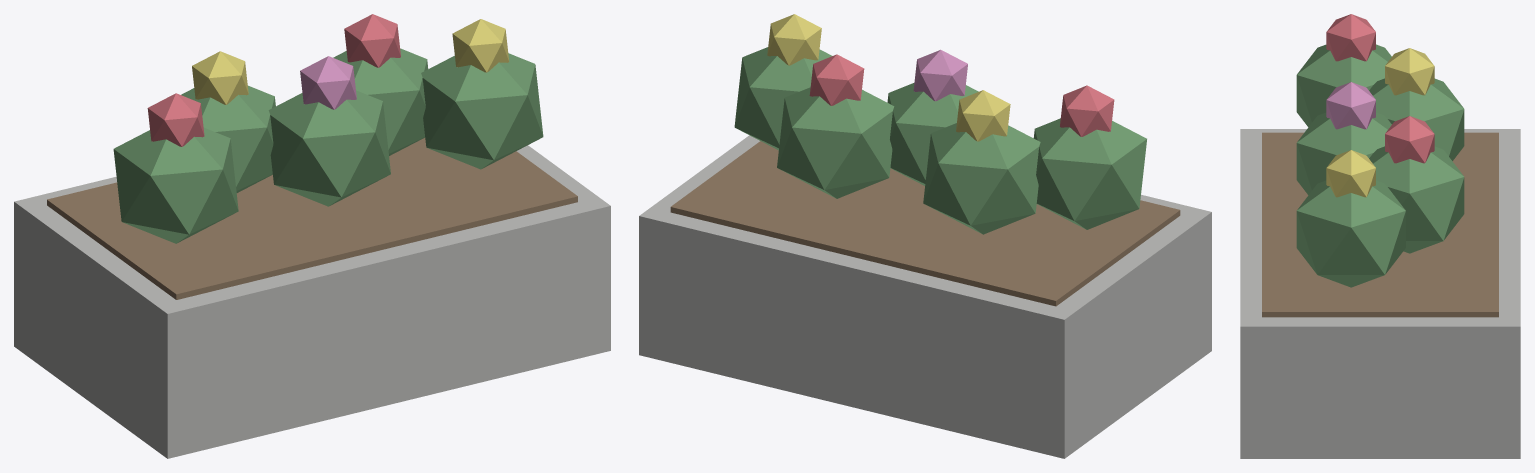
Rendered from Saksi_Buyuk.glb.
3 views of the same model, side by side, from view 1: azimuth 30°, elevation 25°; view 2: azimuth 150°, elevation 25°; view 3: azimuth 270°, elevation 25° (orthographic). The views are drawn at different scales.
Parts seen in each view (by area): view 1: Saksi_Buyuk; view 2: Saksi_Buyuk; view 3: Saksi_Buyuk.
Part boxes in pixels (<box>): Saksi_Buyuk: <box>14,14,610,458</box>; Saksi_Buyuk: <box>639,14,1211,458</box>; Saksi_Buyuk: <box>1240,14,1520,458</box>.
Size of the model in its own units: 1.6 by 1.05 by 0.96.
